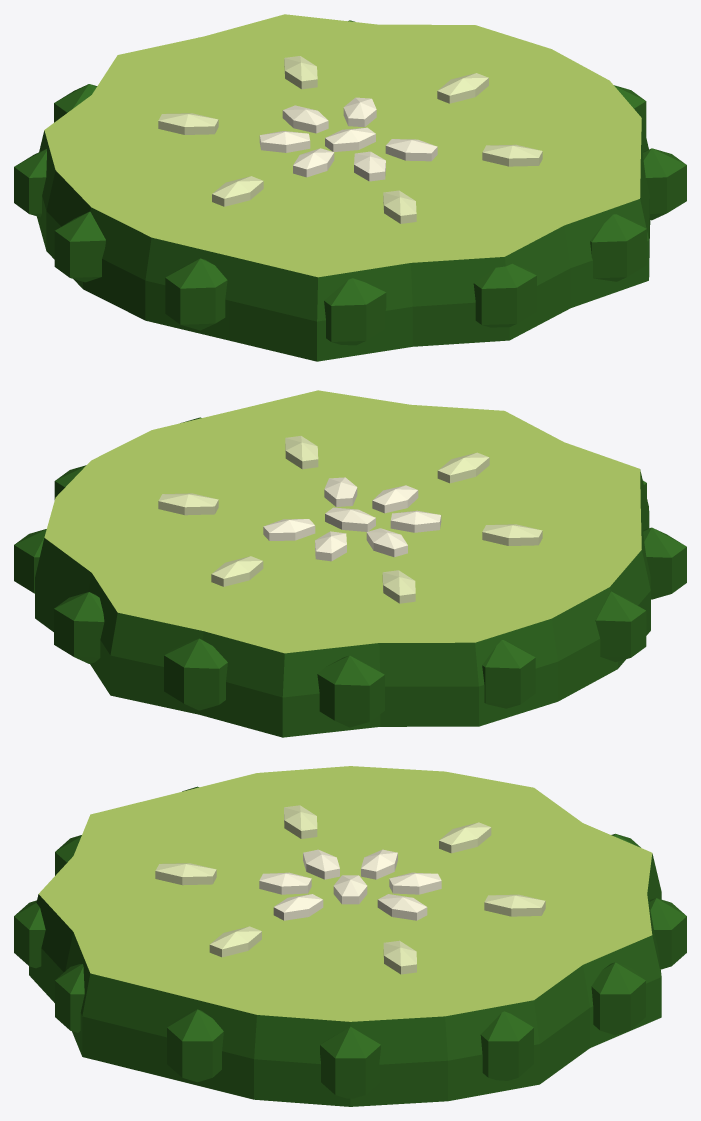
File: pickle_slice.glb
3 renders of one model, top to bottom at view 1: azimuth 30°, elevation 25°; view 2: azimuth 150°, elevation 25°; view 3: azimuth 270°, elevation 25°, orthographic.
Visible parts, largest first — view 1: PickleSlice; view 2: PickleSlice; view 3: PickleSlice.
Part boxes in pixels (left/top/right/bottom): PickleSlice: left=14, top=14, right=686, bottom=361; PickleSlice: left=14, top=390, right=686, bottom=737; PickleSlice: left=14, top=766, right=686, bottom=1106.
Bounding box in the file's own units: 1.6 × 0.25 × 1.6.
